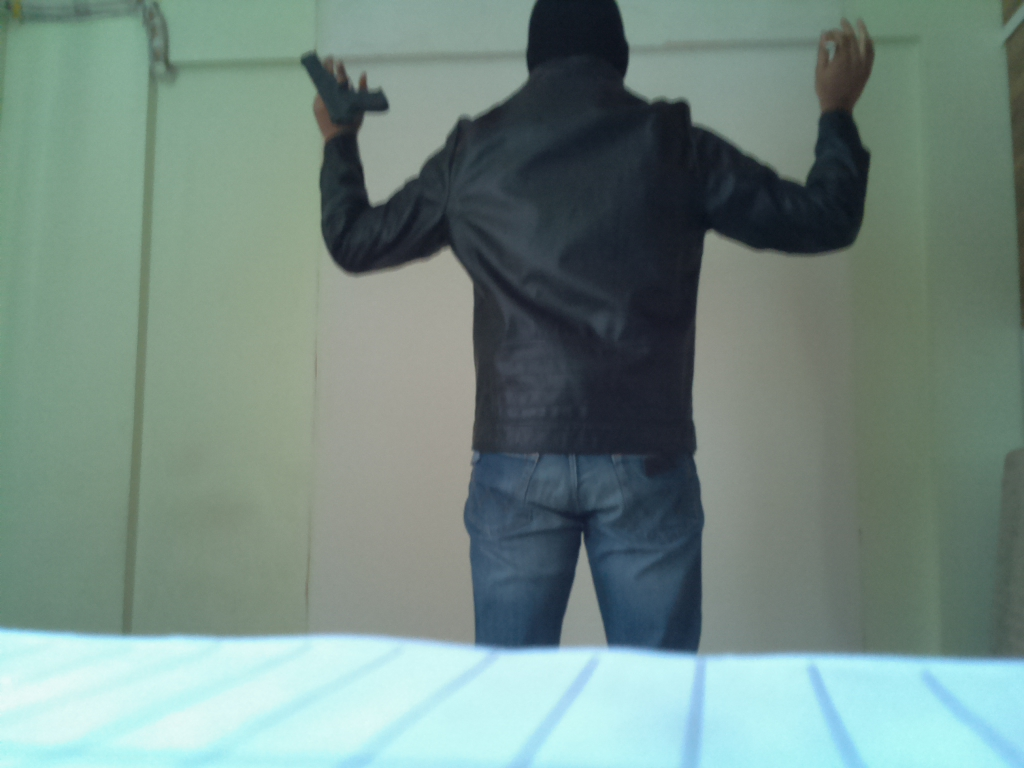gun: (300, 56, 396, 130)
